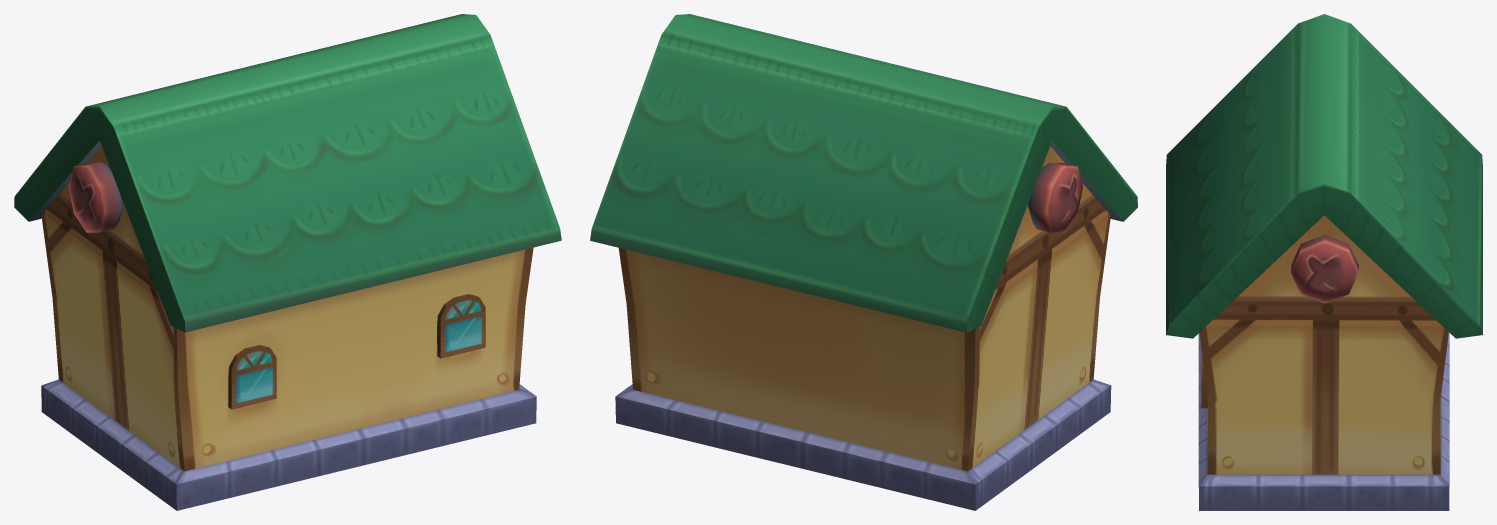
Rendered from house_doorless_g.FBX.
3 renders of one model, left to right at view 1: azimuth 30°, elevation 25°; view 2: azimuth 150°, elevation 25°; view 3: azimuth 270°, elevation 25°, orthographic. The views are drawn at different scales.
Visible parts, largest first — view 1: Box083; view 2: Box083; view 3: Box083.
Part boxes in pixels (x1,y1,x2,y2): Box083: (14, 14, 561, 510); Box083: (590, 14, 1137, 510); Box083: (1166, 14, 1482, 510).
Bounding box in the file's own units: 29.71 × 24.73 × 21.49.
